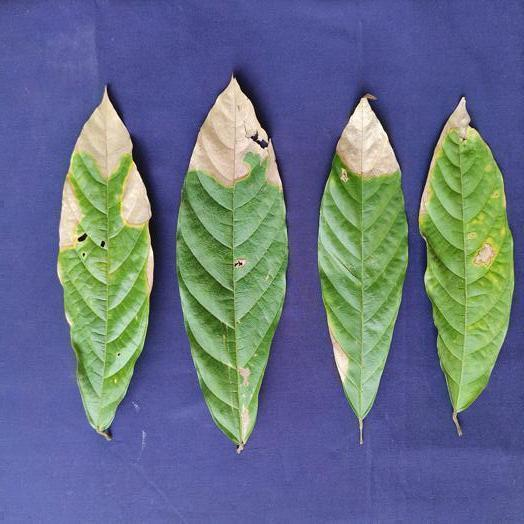Potassium: (177, 77, 287, 451), (57, 89, 153, 439), (419, 98, 513, 435), (318, 97, 407, 443)
